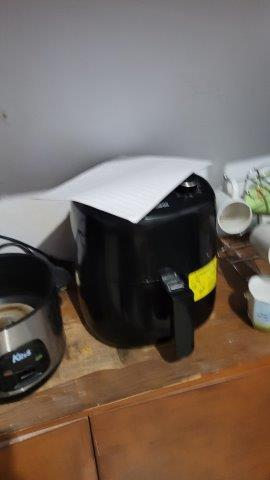kertas: (29, 148, 214, 219)
